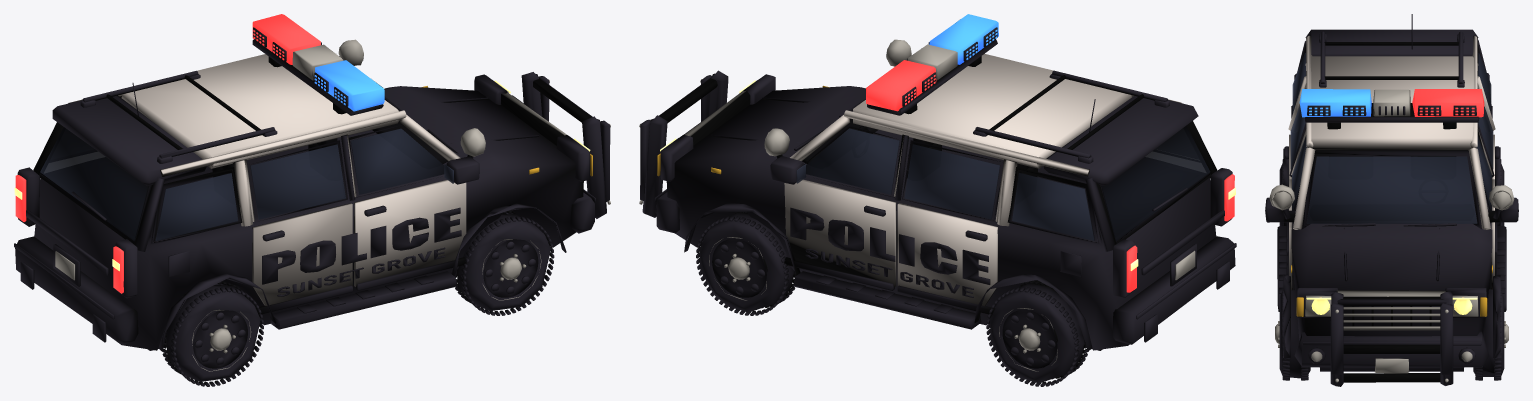
3 renders of one model, left to right at view 1: azimuth 30°, elevation 25°; view 2: azimuth 150°, elevation 25°; view 3: azimuth 270°, elevation 25°, orthographic. The views are drawn at different scales.
Parts seen in each view (by area): view 1: body, wheelRR, wheelFR, sirenR, sirenL, lightsBrake; view 2: body, wheelRL, wheelFL, sirenL, sirenR, lightsBrake; view 3: body, sirenL, sirenR, wheelFR, wheelFL, lightsFront.
Boxes of the visible parts, x1=… form: body: x1=14, y1=27, x2=610, y2=350; wheelRR: x1=161, y1=281, x2=263, y2=386; wheelFR: x1=455, y1=210, x2=554, y2=315; sirenR: x1=314, y1=60, x2=384, y2=111; sirenL: x1=252, y1=14, x2=320, y2=64; lightsBrake: x1=14, y1=175, x2=123, y2=293; body: x1=639, y1=27, x2=1236, y2=350; wheelRL: x1=986, y1=280, x2=1088, y2=386; wheelFL: x1=696, y1=212, x2=795, y2=315; sirenL: x1=866, y1=60, x2=936, y2=111; sirenR: x1=929, y1=14, x2=998, y2=64; lightsBrake: x1=1126, y1=174, x2=1235, y2=292; body: x1=1265, y1=14, x2=1518, y2=386; sirenL: x1=1412, y1=89, x2=1484, y2=117; sirenR: x1=1299, y1=89, x2=1371, y2=117; wheelFR: x1=1275, y1=287, x2=1310, y2=380; wheelFL: x1=1473, y1=287, x2=1508, y2=380; lightsFront: x1=1306, y1=297, x2=1477, y2=314.
Size of the model in its own units: 5.29 by 2.48 by 2.5.
